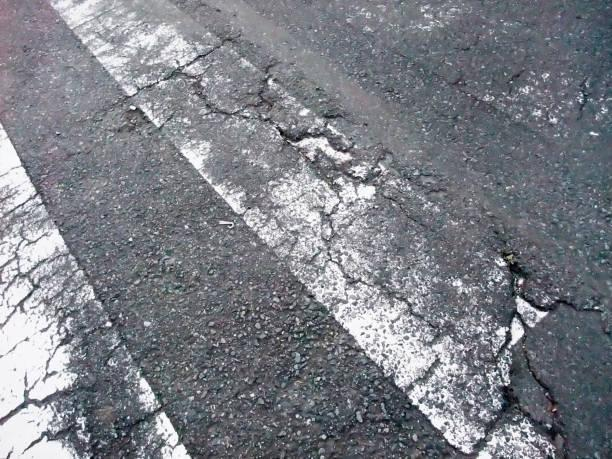faded_road_lines: (51, 0, 611, 458), (0, 124, 190, 458), (306, 0, 611, 149)
